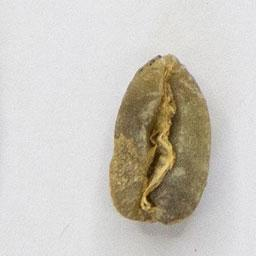longberry: (105, 49, 215, 228)
